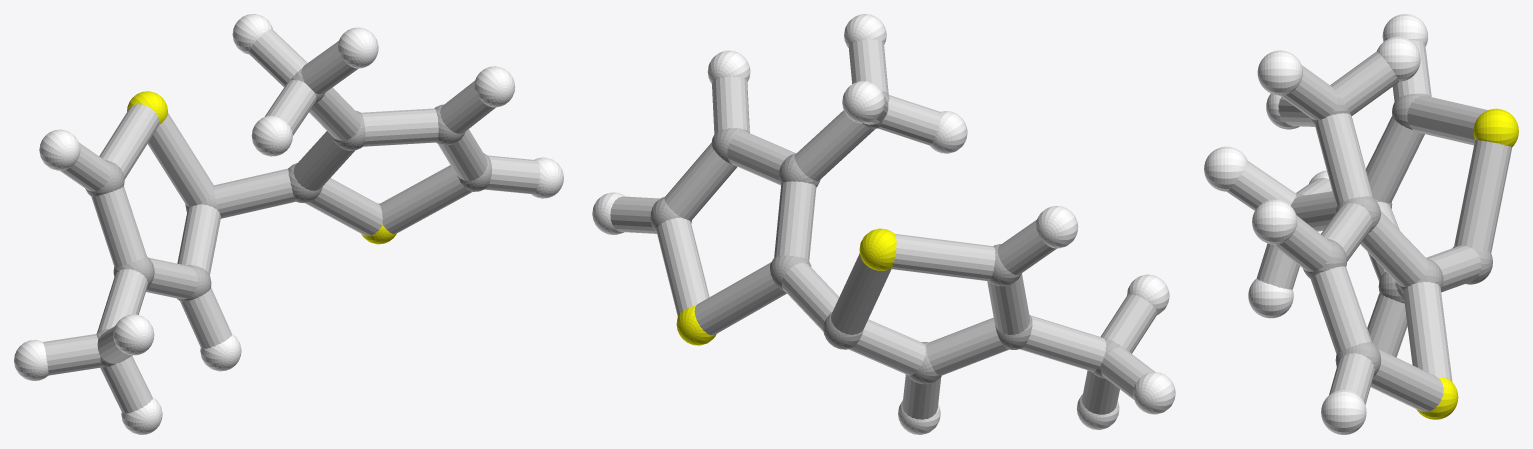
The model's file is Methylthiophene_Phi_60_Theta_60_Methylthiophene.glb.
The picture shows the model from 3 angles, left to right: view 1: azimuth 30°, elevation 25°; view 2: azimuth 150°, elevation 25°; view 3: azimuth 270°, elevation 25°; orthographic projection. The views are drawn at different scales.
Visible parts, largest first — view 1: grp7965, grp3621, grp1, grp7241; view 2: grp7965, grp3621, grp1, grp7241; view 3: grp7965, grp3621, grp1, grp7241.
Part boxes in pixels (x1,y1,x2,y2): grp7965: [43, 29, 540, 413]; grp3621: [14, 14, 563, 434]; grp1: [85, 68, 491, 367]; grp7241: [127, 91, 396, 244]; grp7965: [610, 39, 1157, 419]; grp3621: [592, 14, 1175, 434]; grp1: [650, 91, 1121, 384]; grp7241: [676, 228, 896, 345]; grp7965: [1226, 40, 1512, 411]; grp3621: [1204, 14, 1427, 434]; grp1: [1290, 93, 1492, 376]; grp7241: [1416, 108, 1518, 419].
Bounding box in the file's own units: 9.25 × 5.59 × 4.15.
